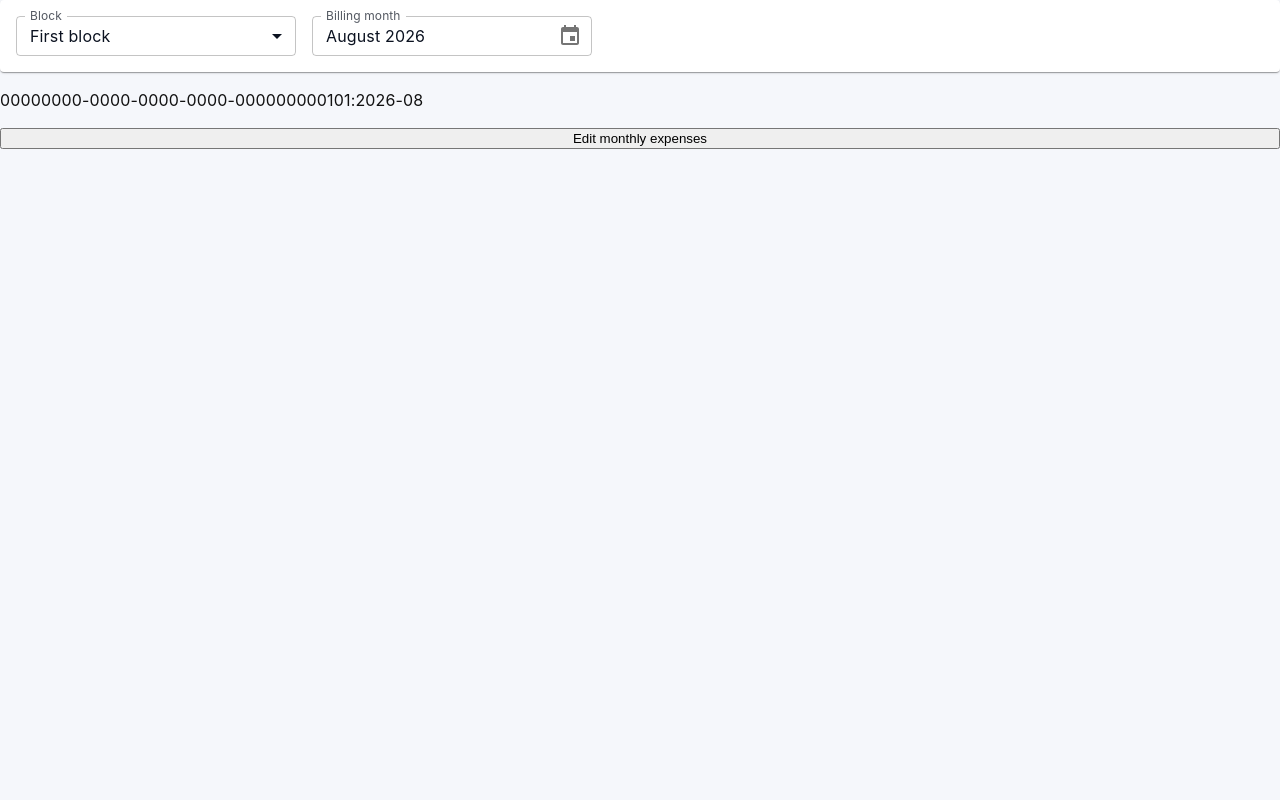
Test case: finance month availability › corrects a restored period and recalculates the start when block scope changes
Expected: the button "Edit monthly expenses" is shown, [0, 128, 1279, 149]
Click the dropdown labelled "block": (70, 36) [30, 26, 110, 46]
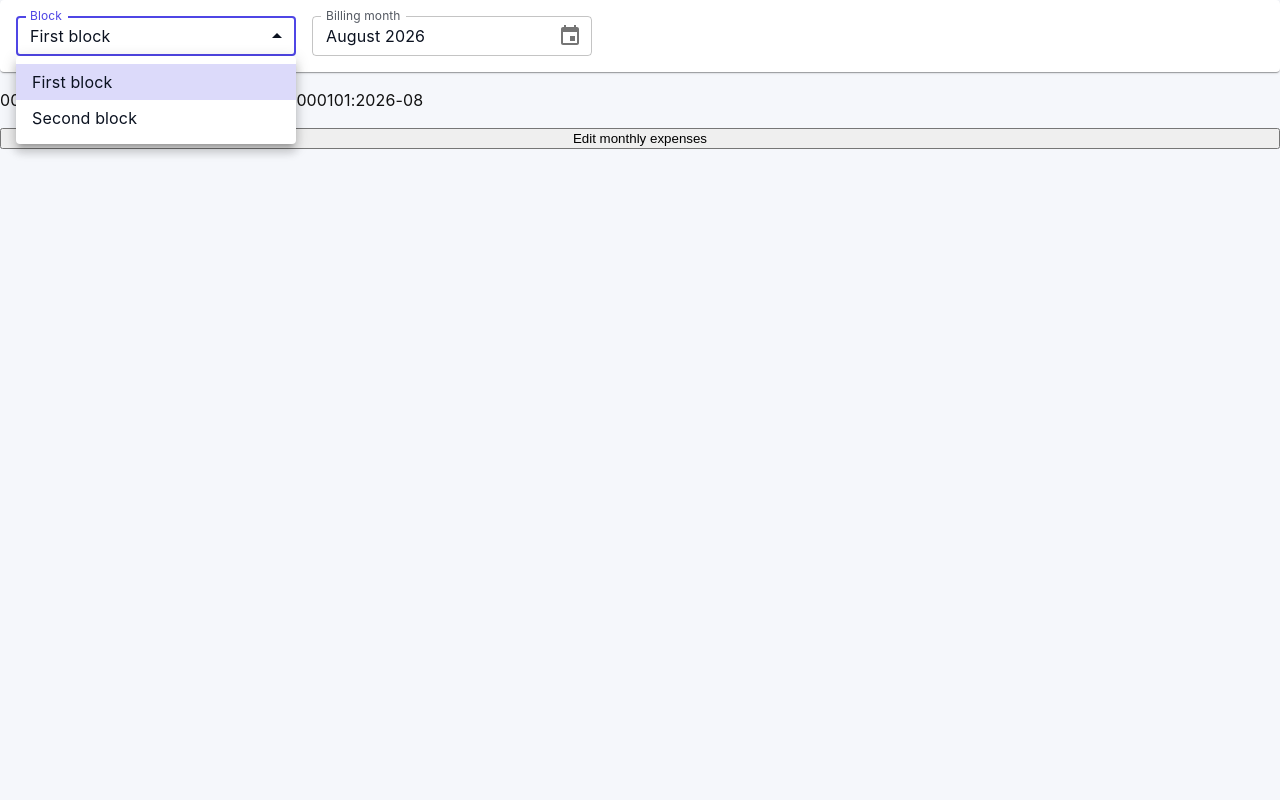
Click the option "Second block": (85, 118) [32, 108, 137, 128]
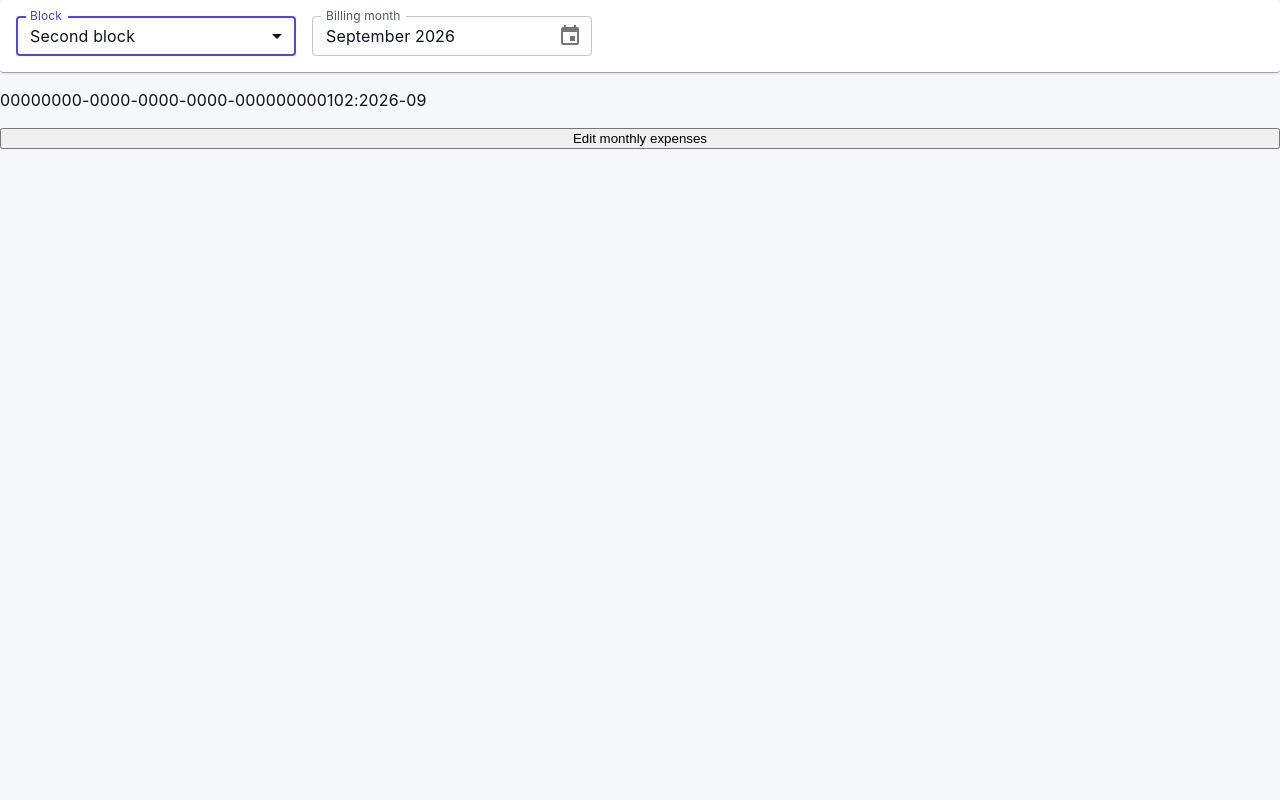
Click the button named "choose date": (570, 36) [550, 16, 590, 56]
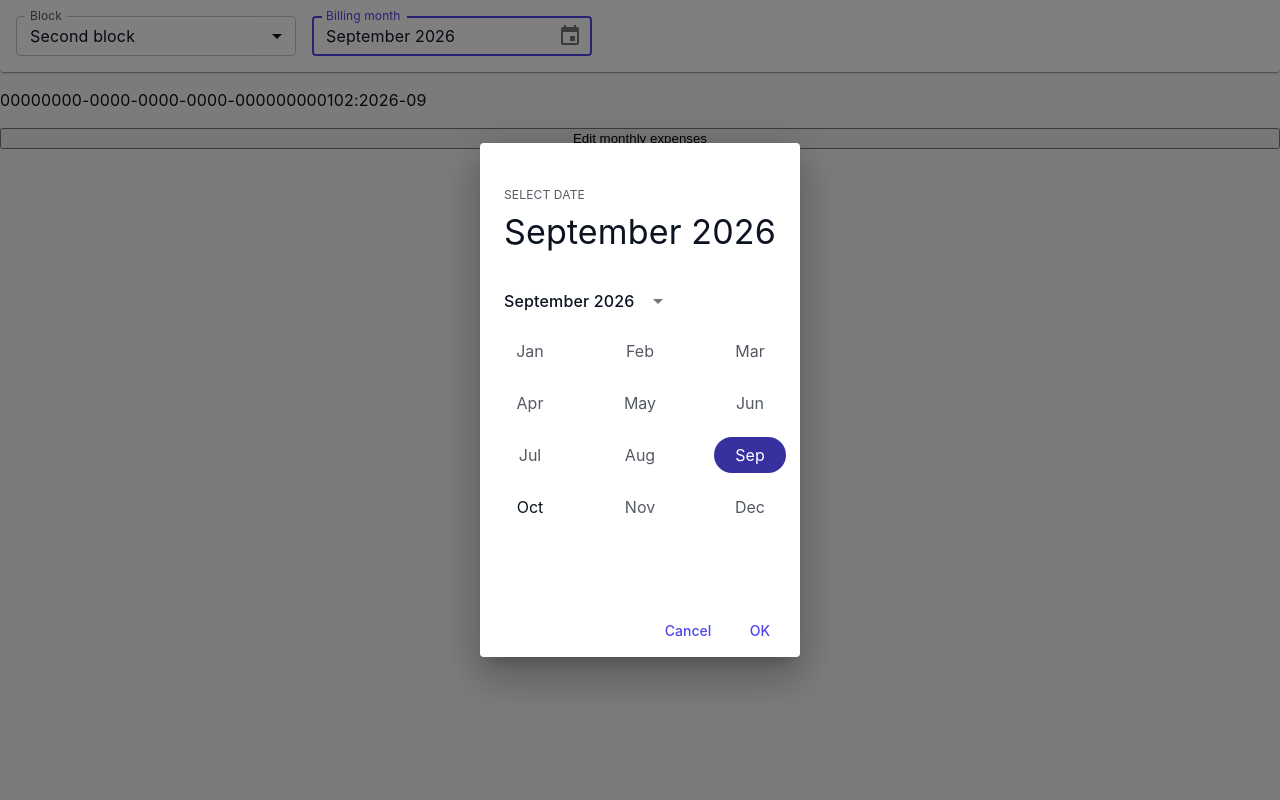
Expected: the radio button named "August" is disabled, [604, 437, 676, 473]
Expected: the radio button named "September" is enabled, [714, 437, 786, 473]
